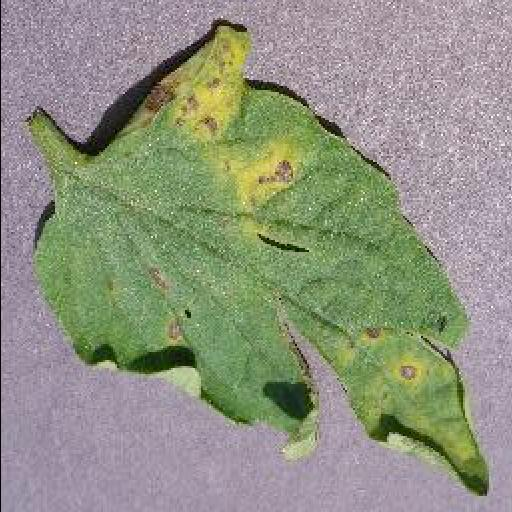disease_tomato: (34, 24, 494, 498)
